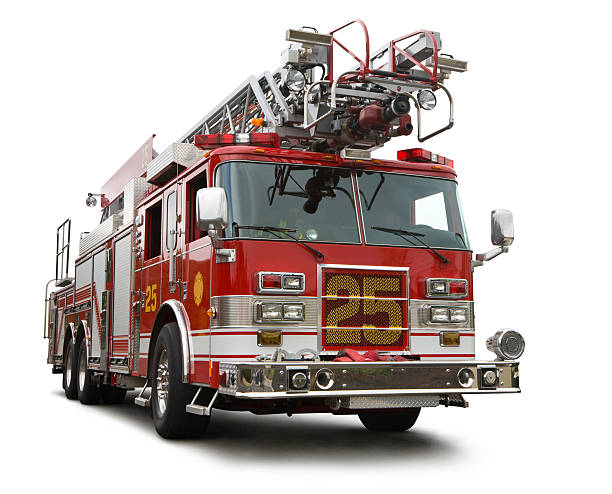Truck: (36, 27, 568, 455)
